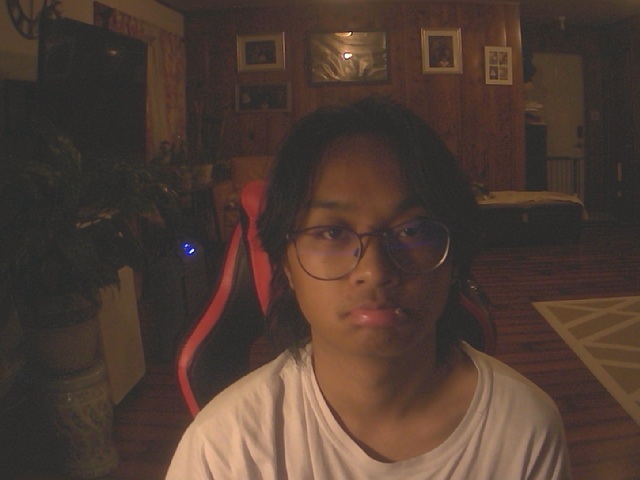sad: (257, 94, 484, 363)
